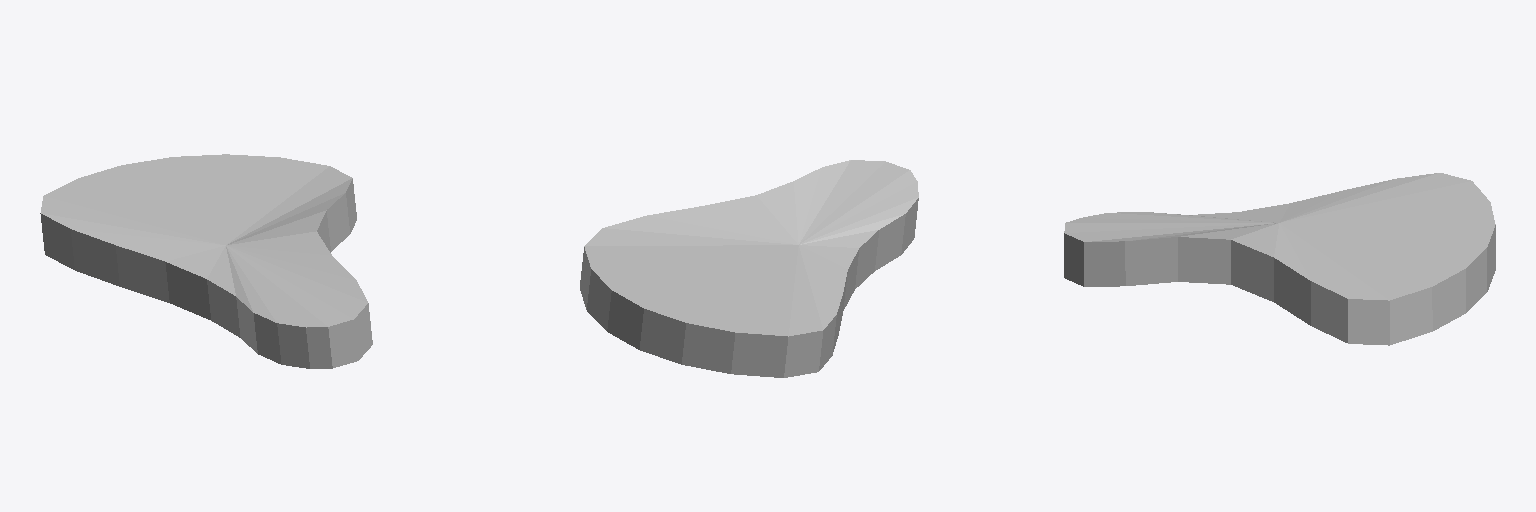
File: steak.obj
The picture shows the model from 3 angles: view 1: azimuth 30°, elevation 25°; view 2: azimuth 150°, elevation 25°; view 3: azimuth 270°, elevation 25°; orthographic projection.
Parts seen in each view (by area): view 1: Circle_Circle.001_Material.001, Circle.001_Circle.002_Material.002, Circle_Circle.001_Material.002; view 2: Circle_Circle.001_Material.001, Circle_Circle.001_Material.002, Circle.001_Circle.002_Material.002; view 3: Circle.001_Circle.002_Material.002, Circle_Circle.001_Material.001, Circle_Circle.001_Material.002.
Boxes of the visible parts, box(x1,y1,x2,y2) form: Circle_Circle.001_Material.001: box(90, 167, 345, 318); Circle.001_Circle.002_Material.002: box(40, 179, 372, 368); Circle_Circle.001_Material.002: box(41, 154, 367, 327); Circle_Circle.001_Material.001: box(624, 173, 905, 317); Circle_Circle.001_Material.002: box(584, 160, 918, 336); Circle.001_Circle.002_Material.002: box(580, 198, 918, 377); Circle.001_Circle.002_Material.002: box(1064, 225, 1495, 345); Circle_Circle.001_Material.001: box(1096, 186, 1464, 286); Circle_Circle.001_Material.002: box(1064, 173, 1495, 300).
Size of the model in its own units: 0.4258 by 0.1018 by 0.5874.